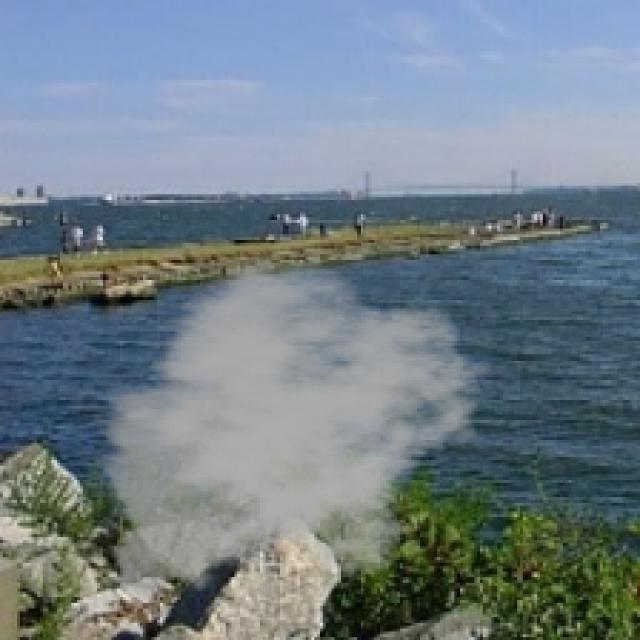smoke: (89, 260, 494, 614)
